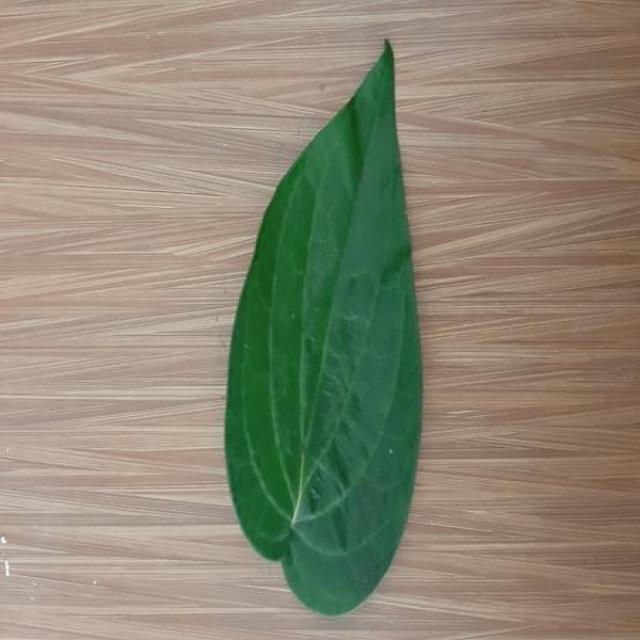betel: (225, 44, 422, 614)
